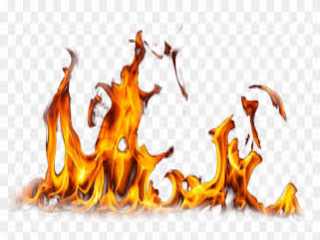fire: (26, 53, 298, 212)
